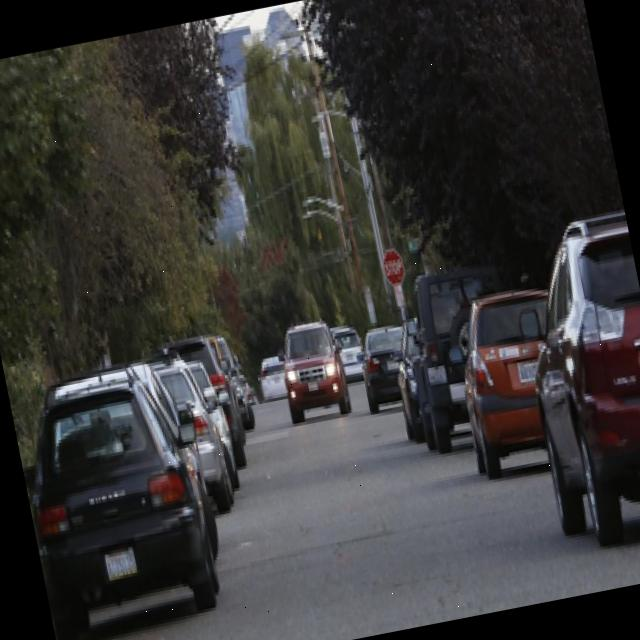Autre: (98, 542, 145, 586), (514, 349, 544, 386)
